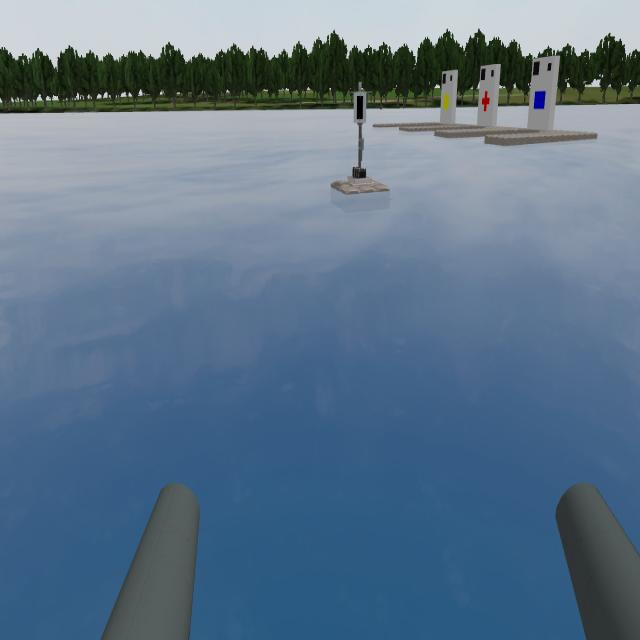black_pole: (347, 76, 373, 134)
